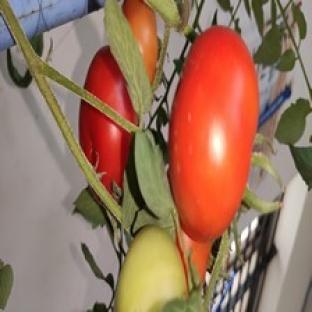Tomato: (169, 27, 259, 240), (115, 226, 188, 311), (80, 101, 132, 193), (177, 229, 211, 284)
